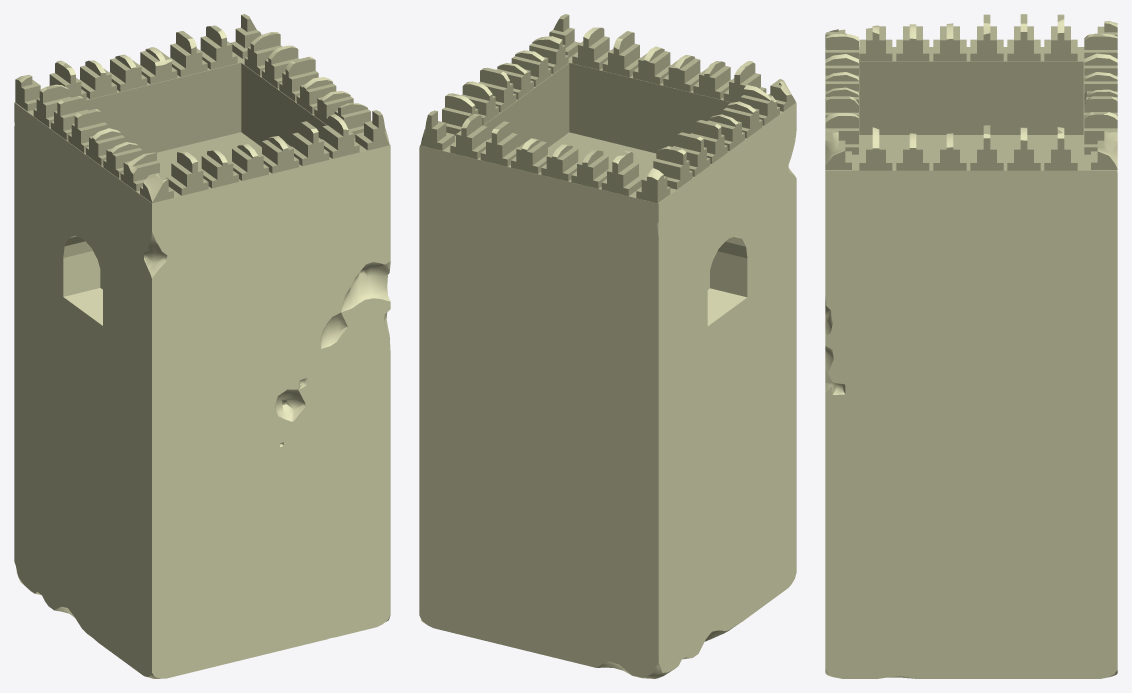
Rendered from TorreMuralla3.fbx.
3 views of the same model, side by side, from view 1: azimuth 30°, elevation 25°; view 2: azimuth 150°, elevation 25°; view 3: azimuth 270°, elevation 25° (orthographic). The views are drawn at different scales.
Visible parts, largest first — view 1: Cube.001_dmg; view 2: Cube.001_dmg; view 3: Cube.001_dmg.
Boxes of the visible parts, x1,y1,x2,y2 form: Cube.001_dmg: [14, 14, 390, 678]; Cube.001_dmg: [419, 14, 796, 678]; Cube.001_dmg: [825, 14, 1117, 678].
Size of the model in its own units: 395 by 809 by 395.
